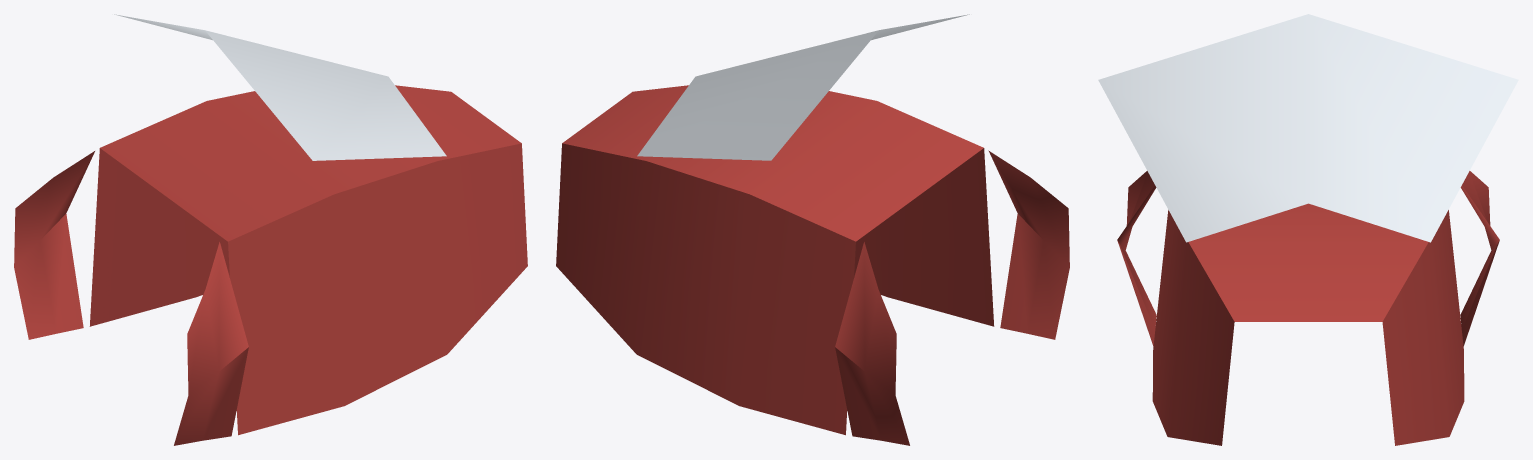
The model's file is seeley_lod2.glb.
The picture shows the model from 3 angles, left to right: view 1: azimuth 30°, elevation 25°; view 2: azimuth 150°, elevation 25°; view 3: azimuth 270°, elevation 25°; orthographic projection. The views are drawn at different scales.
Visible parts, largest first — view 1: seeley_lod2; view 2: seeley_lod2; view 3: seeley_lod2.
Boxes of the visible parts, x1,y1,x2,y2 form: seeley_lod2: (14, 14, 527, 445); seeley_lod2: (556, 14, 1069, 445); seeley_lod2: (1098, 14, 1518, 445).
Bounding box in the file's own units: 0.492 × 0.4159 × 0.4437.
